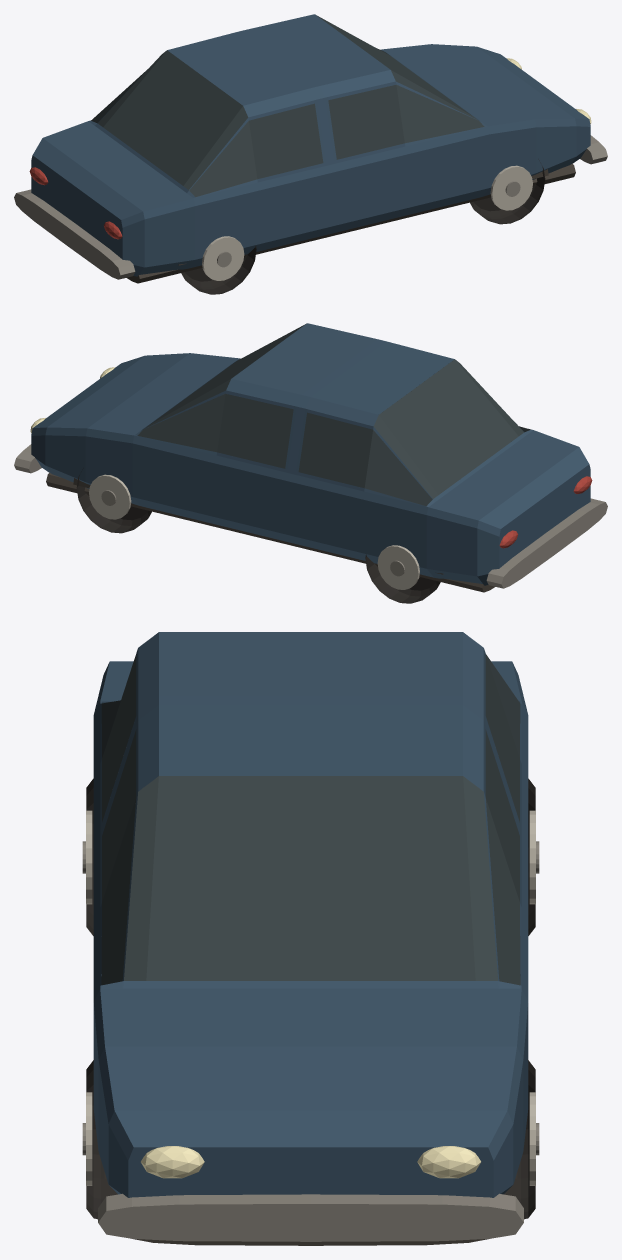
Rendered from sedan-lacivert.glb.
3 renders of one model, top to bottom at view 1: azimuth 30°, elevation 25°; view 2: azimuth 150°, elevation 25°; view 3: azimuth 270°, elevation 25°, orthographic. The views are drawn at different scales.
Parts seen in each view (by area): view 1: a_lacivert, cam, tampon, jant, lastik, ic, stop; view 2: a_lacivert, cam, tampon, jant, lastik, ic, stop; view 3: a_lacivert, cam, tampon, lastik, far, jant, ic.
Boxes of the visible parts, x1=… form: a_lacivert: x1=31, y1=14, x2=590, y2=276; cam: x1=91, y1=14, x2=484, y2=197; tampon: x1=14, y1=135, x2=607, y2=279; jant: x1=202, y1=165, x2=532, y2=280; lastik: x1=181, y1=159, x2=545, y2=294; ic: x1=126, y1=163, x2=575, y2=283; stop: x1=29, y1=167, x2=122, y2=239; a_lacivert: x1=31, y1=323, x2=590, y2=585; cam: x1=137, y1=323, x2=530, y2=506; tampon: x1=14, y1=444, x2=607, y2=588; jant: x1=89, y1=474, x2=419, y2=589; lastik: x1=76, y1=468, x2=440, y2=603; ic: x1=46, y1=472, x2=495, y2=592; stop: x1=499, y1=476, x2=592, y2=548; a_lacivert: x1=93, y1=632, x2=528, y2=1197; cam: x1=101, y1=654, x2=520, y2=985; tampon: x1=82, y1=841, x2=539, y2=1241; lastik: x1=86, y1=778, x2=535, y2=1219; far: x1=141, y1=1146, x2=480, y2=1178; jant: x1=86, y1=810, x2=535, y2=1185; ic: x1=104, y1=1172, x2=517, y2=1245.
Size of the model in its own units: 4.56 by 1.51 by 1.85.
